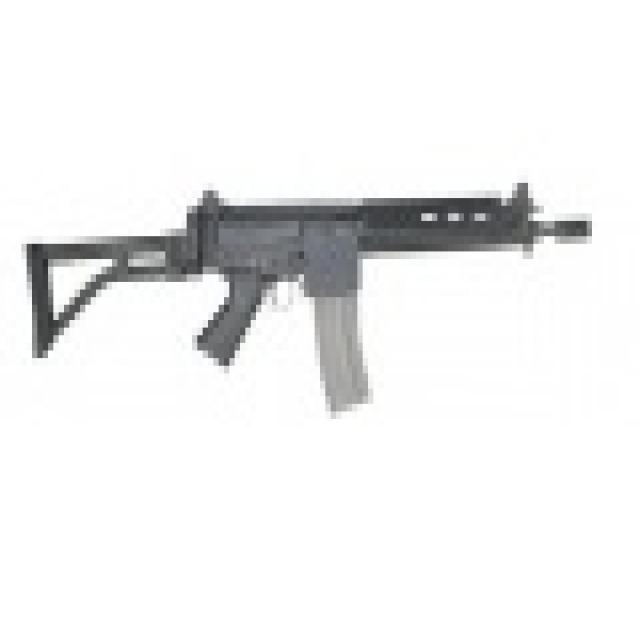Gun: (14, 114, 590, 434)
